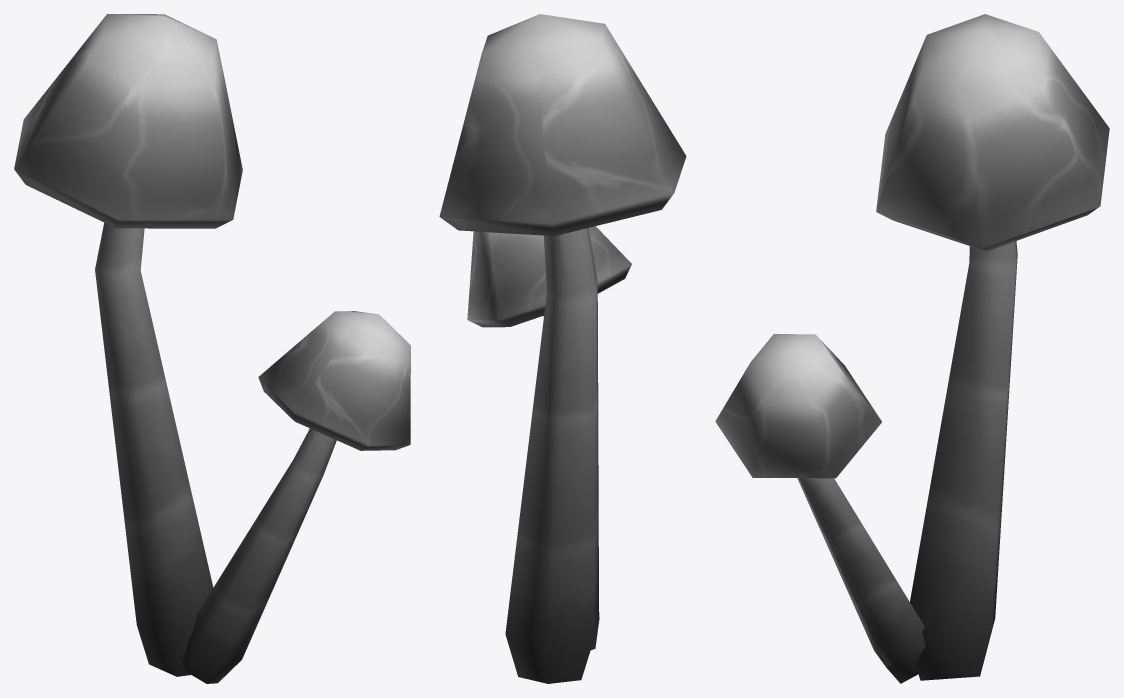
File: cave mushroom clump Mobile.FBX
3 renders of one model, left to right at view 1: azimuth 30°, elevation 25°; view 2: azimuth 150°, elevation 25°; view 3: azimuth 270°, elevation 25°, orthographic. The views are drawn at different scales.
Visible parts, largest first — view 1: Object012; view 2: Object012; view 3: Object012.
Part boxes in pixels (x1,y1,x2,y2): Object012: (14,14,410,683); Object012: (439,14,686,683); Object012: (715,14,1109,683).
Bounding box in the file's own units: 1.09 × 2.36 × 1.31.
